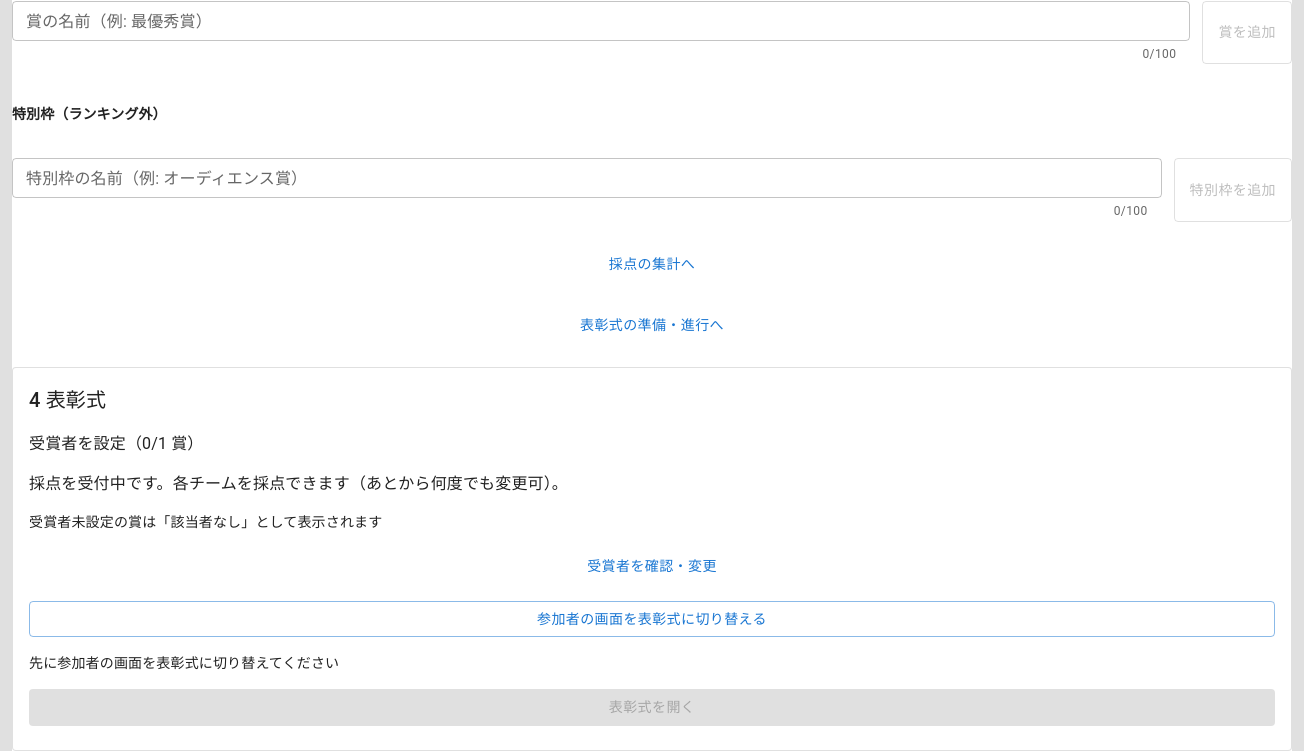
Test: mode failure stays local and never enables ceremony navigation
(page scrolled)
Click the button "参加者の画面を表彰式に切り替える" at (652, 619), box [29,601,1275,637]
(page scrolled)
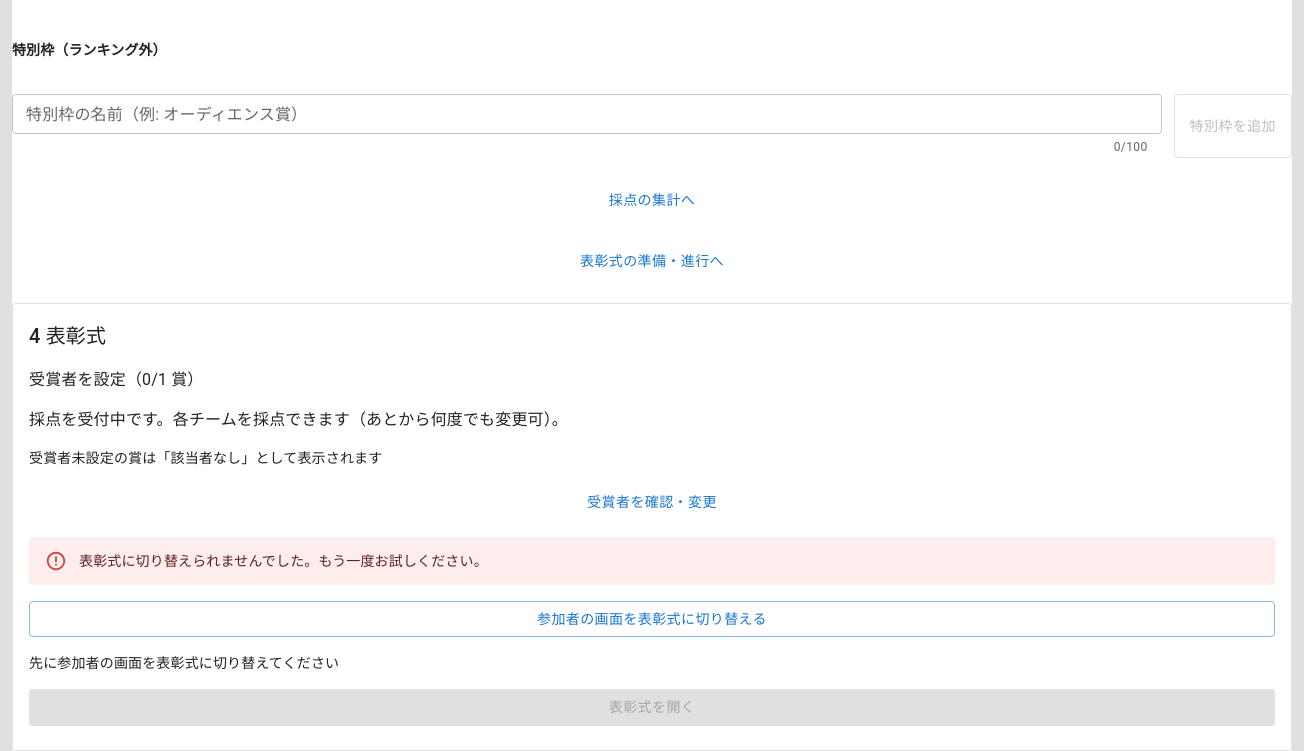
Expected: the text "表彰式に切り替えられませんでした。もう一度お試しください。" is shown, [79,553,488,569]
